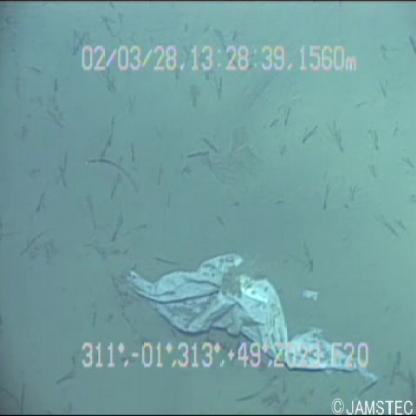Rác: (120, 224, 389, 394)
